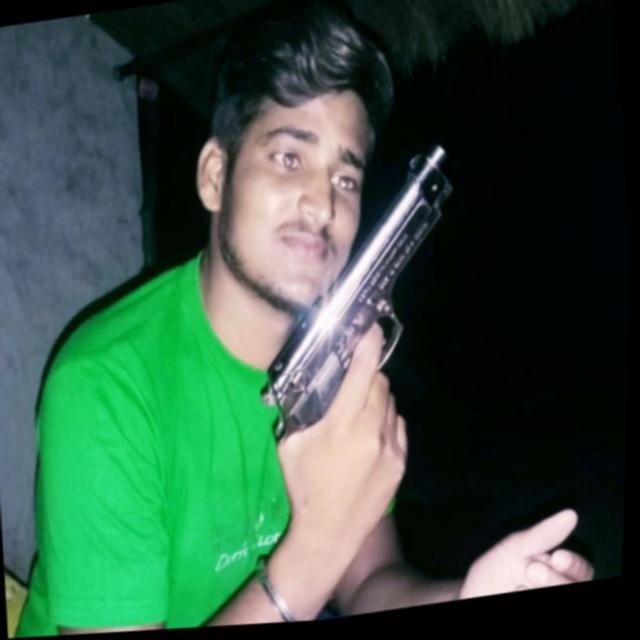weapon: (235, 138, 488, 528)
